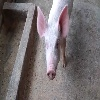heo: (35, 4, 68, 83)
